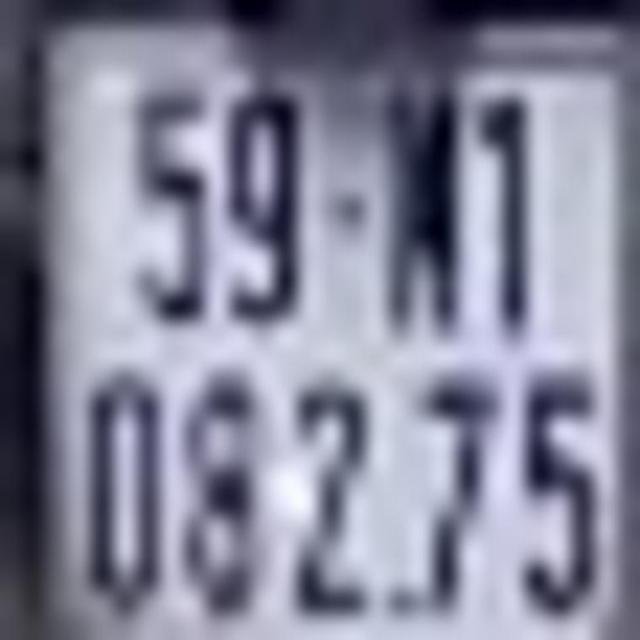0: (78, 366, 161, 612)
1: (475, 86, 544, 348)
2: (286, 364, 374, 614)
5: (523, 367, 605, 612), (136, 88, 212, 328)
7: (408, 364, 494, 610)
8: (177, 368, 267, 611)
9: (226, 86, 305, 324)
M: (374, 92, 462, 338)
